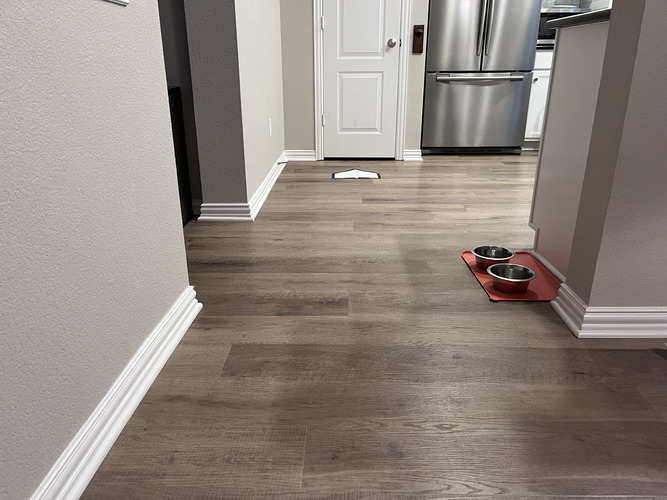homeplate: (330, 168, 380, 178)
